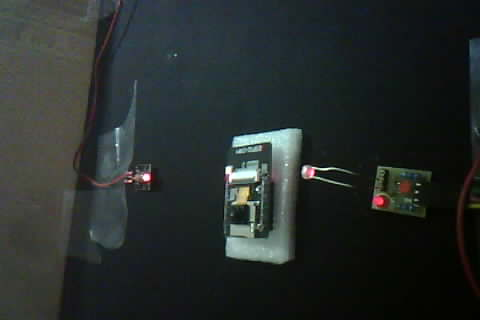esp32: (220, 133, 300, 259)
